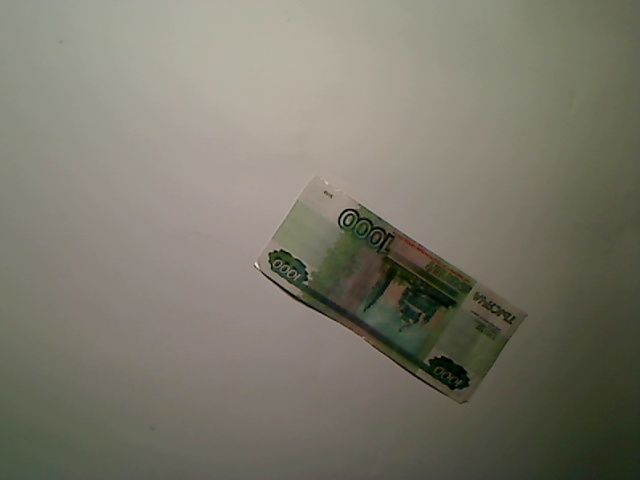banknotes: (250, 171, 533, 408)
